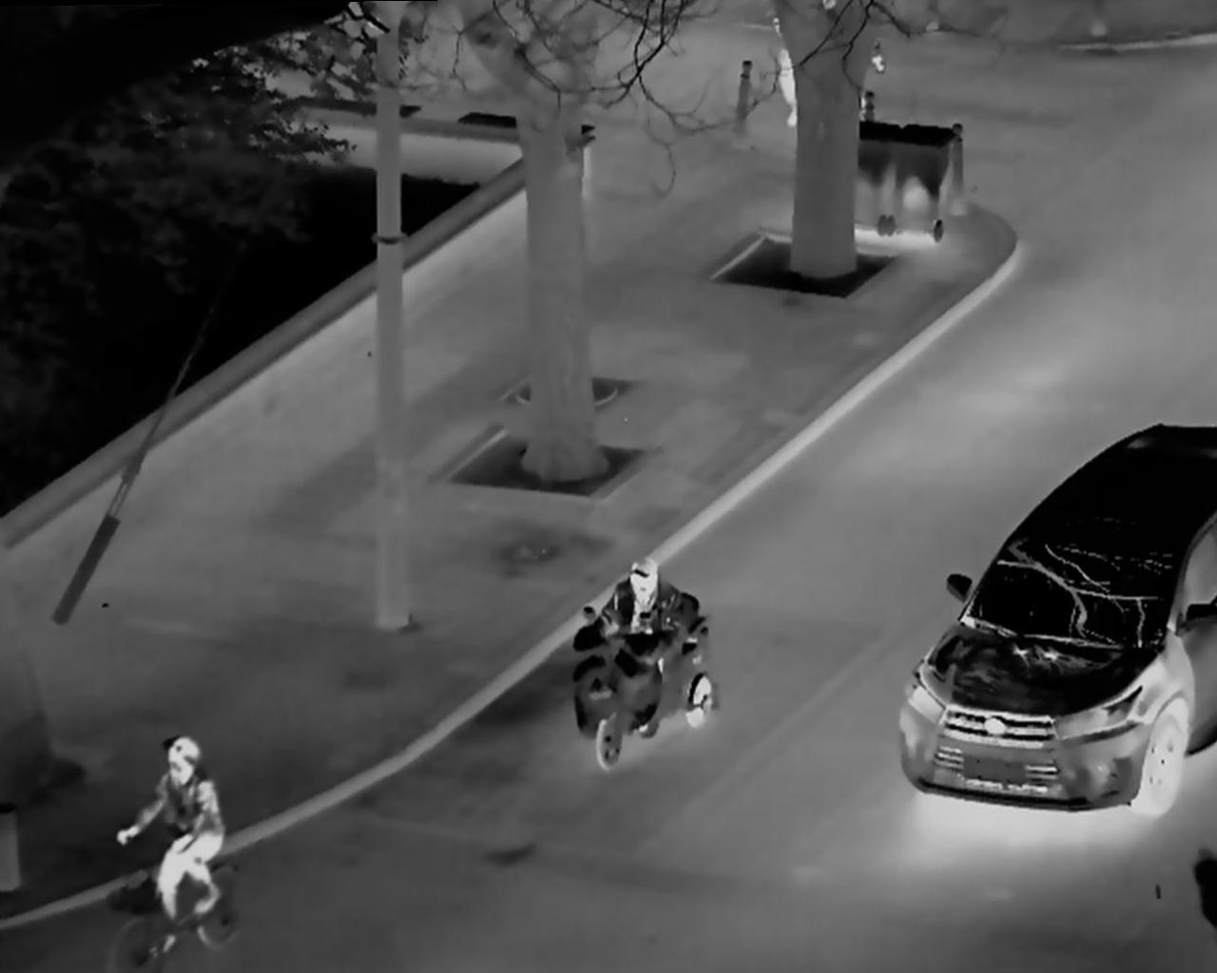person: (111, 722, 241, 933), (583, 545, 699, 736)
